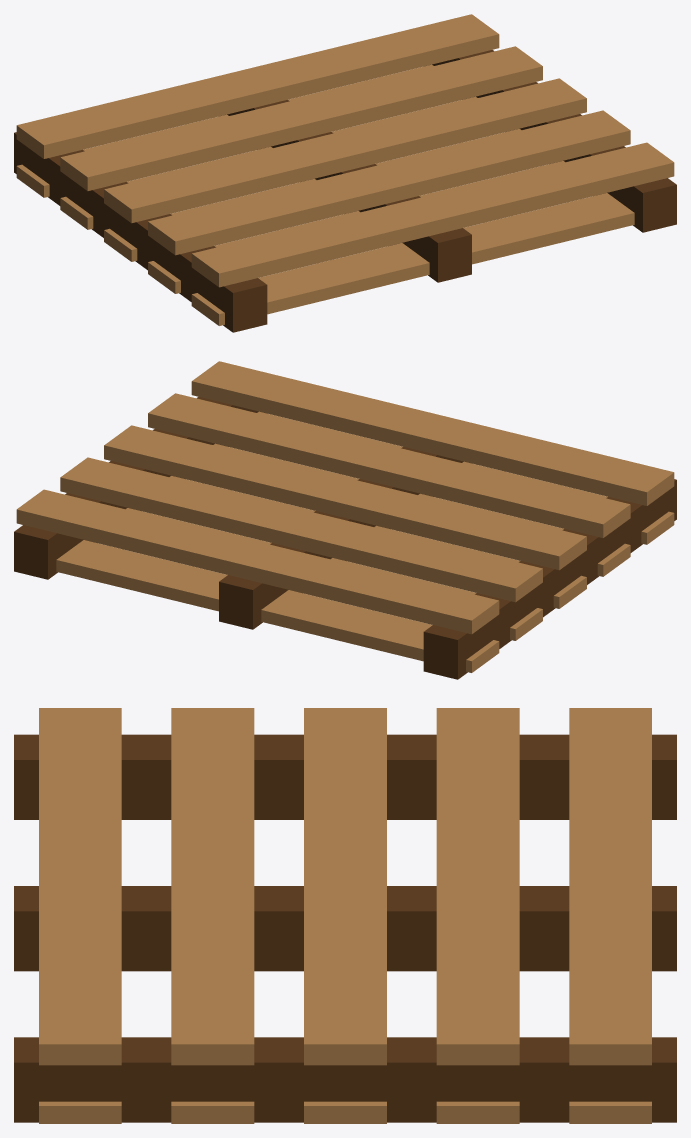
File: pallet_01.glb
The picture shows the model from 3 angles, top to bottom: view 1: azimuth 30°, elevation 25°; view 2: azimuth 150°, elevation 25°; view 3: azimuth 270°, elevation 25°; orthographic projection. The views are drawn at different scales.
Visible parts, largest first — view 1: pallet_01; view 2: pallet_01; view 3: pallet_01.
Part boxes in pixels (left/top/right/bottom): pallet_01: left=14, top=14, right=676, bottom=332; pallet_01: left=14, top=361, right=676, bottom=679; pallet_01: left=14, top=708, right=676, bottom=1123.
Size of the model in its own units: 1.2 by 0.1375 by 1.
